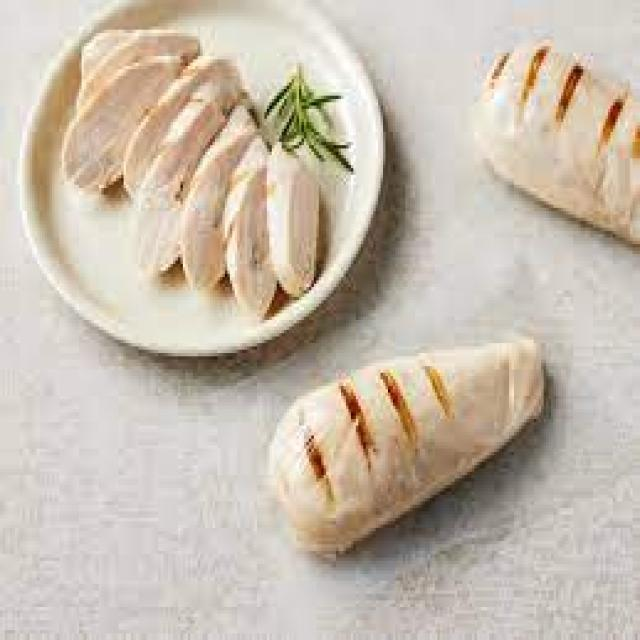chicken: (264, 336, 552, 568), (472, 34, 640, 256)
